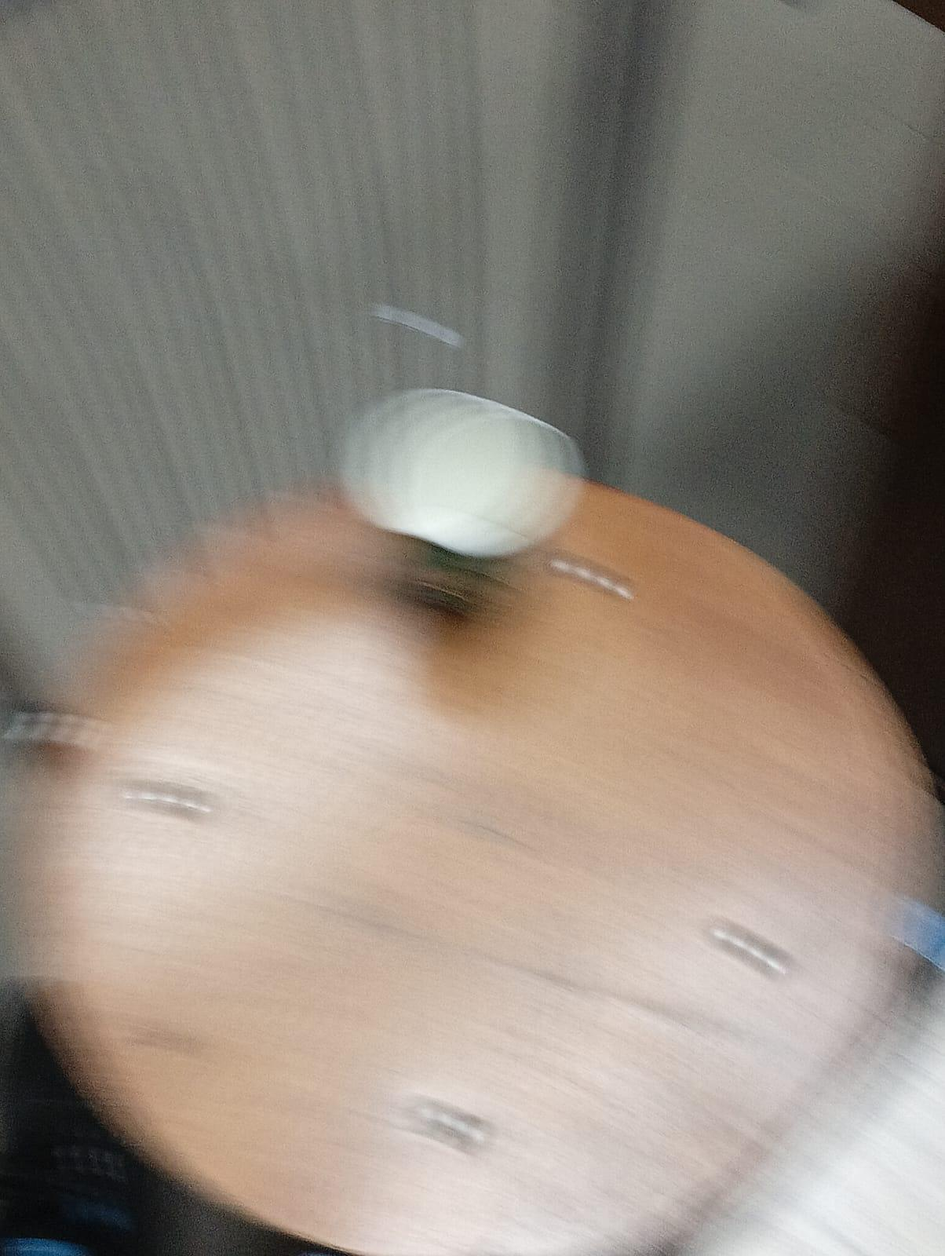cup: (338, 389, 582, 588)
